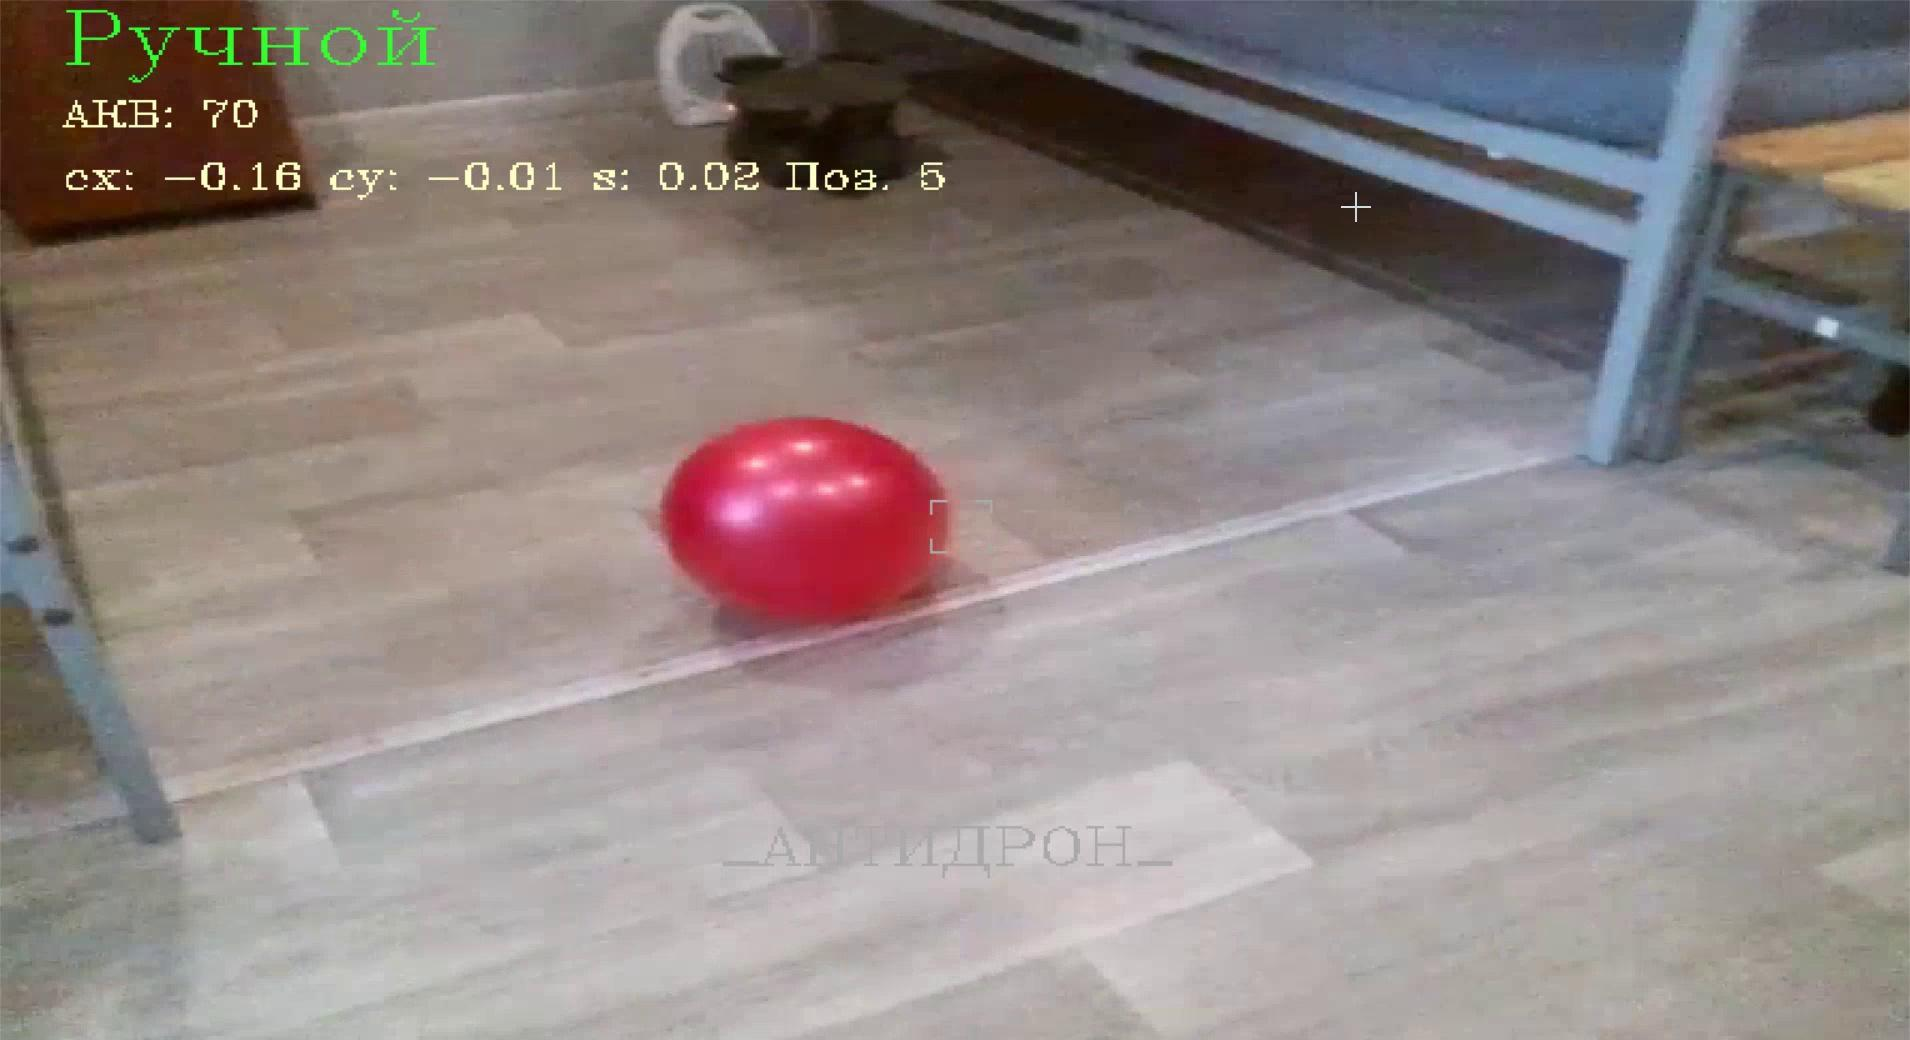red: (657, 414, 947, 623)
